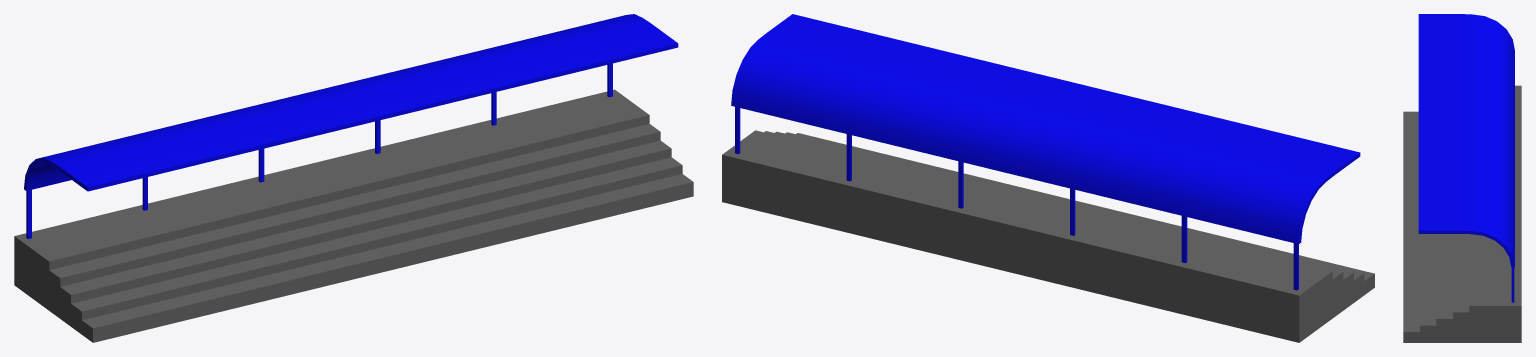
File: spec_stand.fbx
The picture shows the model from 3 angles, left to right: view 1: azimuth 30°, elevation 25°; view 2: azimuth 150°, elevation 25°; view 3: azimuth 270°, elevation 25°; orthographic projection. The views are drawn at different scales.
Visible parts, largest first — view 1: pCylinder2; view 2: pCylinder2; view 3: pCylinder2.
Part boxes in pixels (bbox=[...]): pCylinder2: bbox=[14, 14, 693, 342]; pCylinder2: bbox=[722, 14, 1374, 342]; pCylinder2: bbox=[1403, 14, 1521, 342].
Size of the model in its own units: 632 by 148 by 143.
